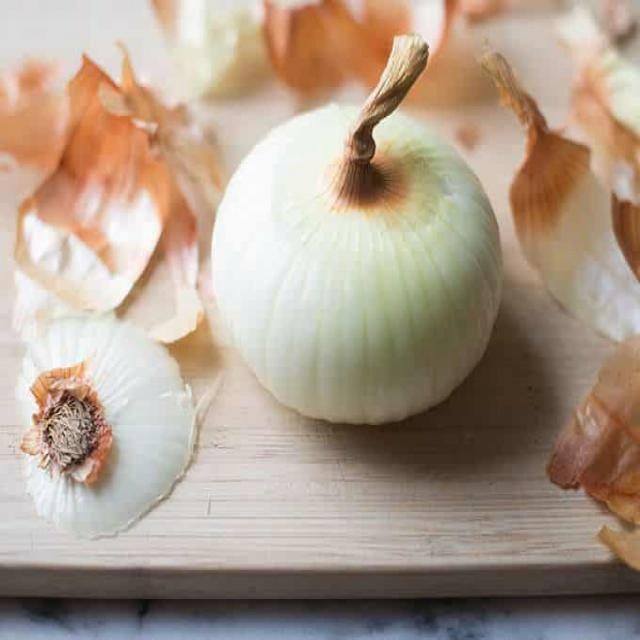onion: (208, 88, 505, 433)
